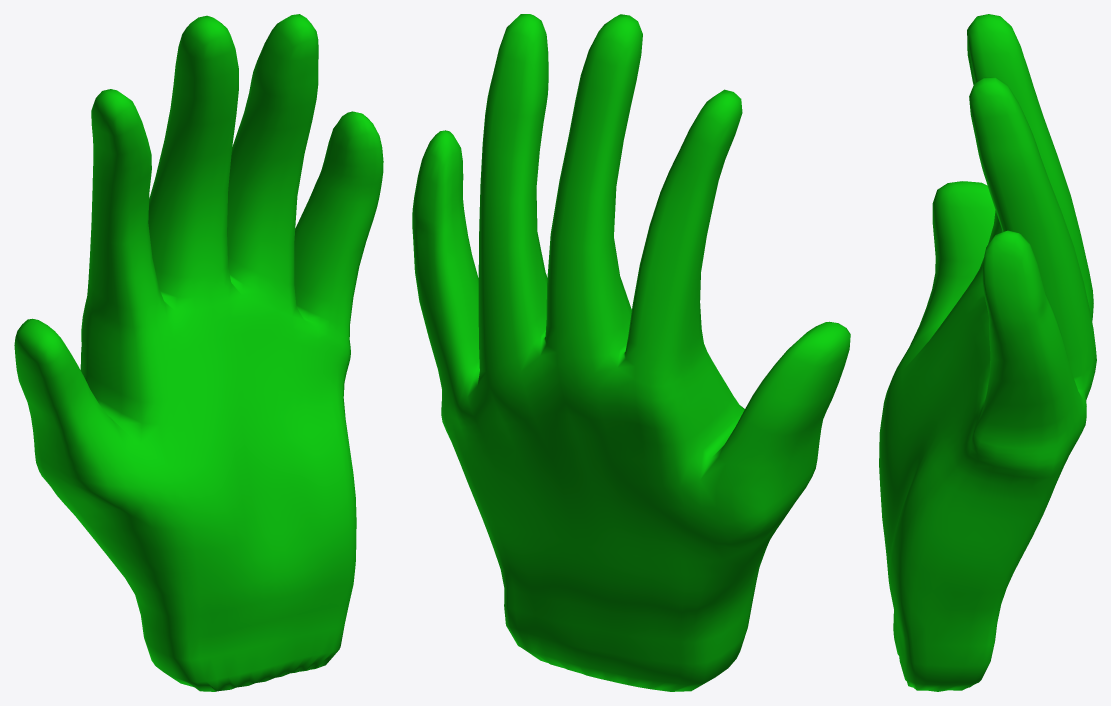
Rendered from hand_green.obj.
The picture shows the model from 3 angles, left to right: view 1: azimuth 30°, elevation 25°; view 2: azimuth 150°, elevation 25°; view 3: azimuth 270°, elevation 25°; orthographic projection. The views are drawn at different scales.
Visible parts, largest first — view 1: Cube; view 2: Cube; view 3: Cube.
Boxes of the visible parts, x1,y1,x2,y2 form: Cube: [14, 14, 383, 691]; Cube: [412, 14, 850, 691]; Cube: [879, 14, 1096, 691].
Bounding box in the file's own units: 2.71 × 4.47 × 1.38.
